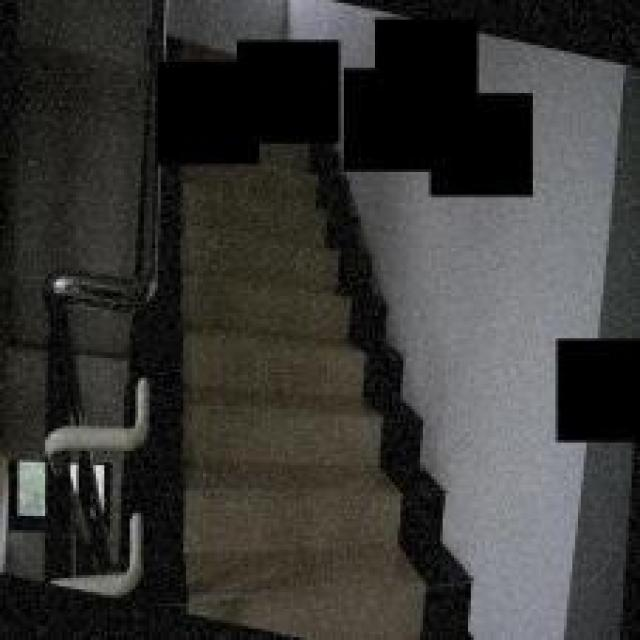upstair: (184, 204, 373, 638)
